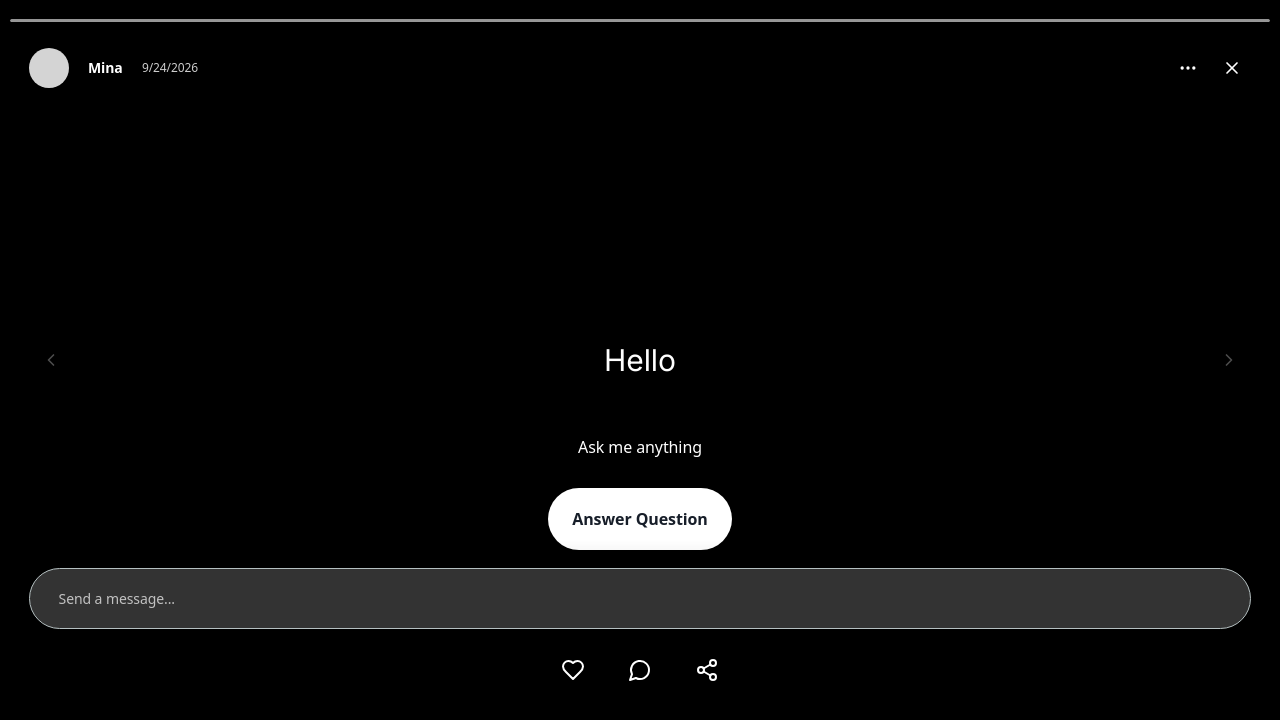
question sticker answers › shows a success state and resumes the story once the answer lands
Click the button with test id "story-question-answer": [640, 519] box [548,488,732,550]
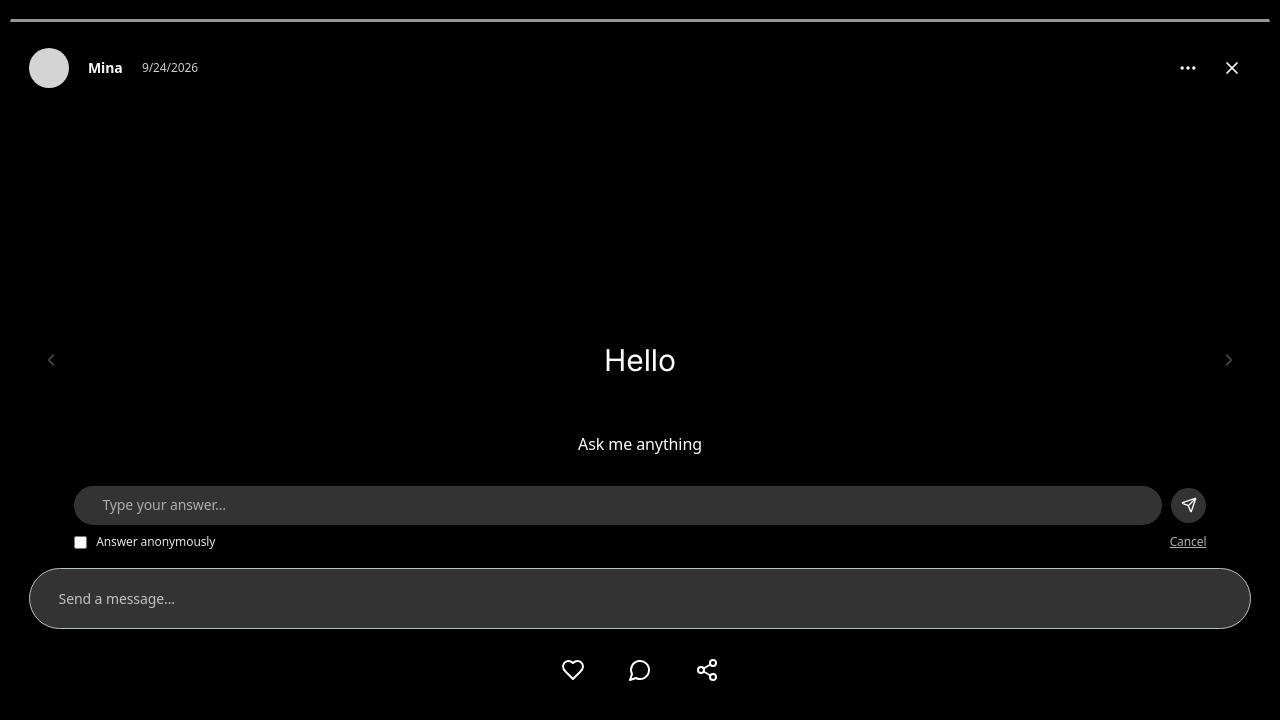
In the field with test id "story-answer-input": [618, 505] box [74,486,1162,525], type "Seoul"
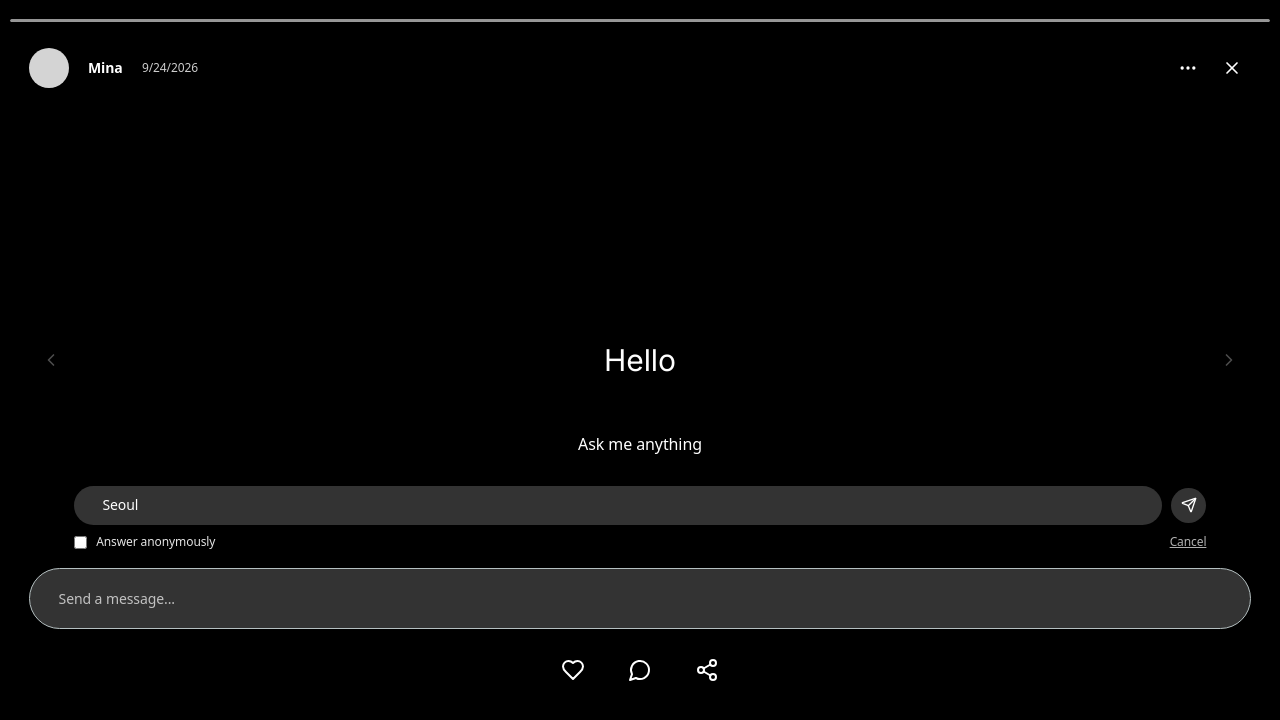
Click the button with test id "story-answer-submit": [1189, 505] box [1171,488,1206,523]
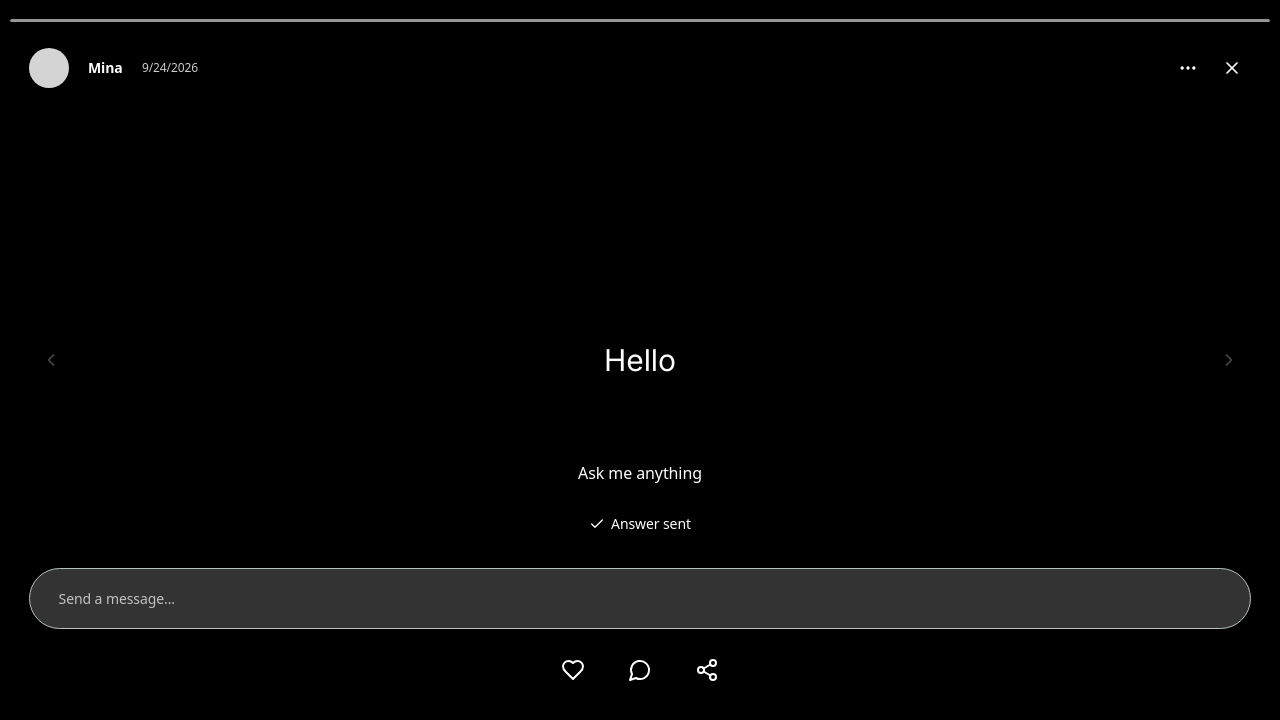
Expected: the element with test id "story-answer-sent" is shown, [589,514,691,533]
Expected: the field with test id "story-answer-input" is gone
